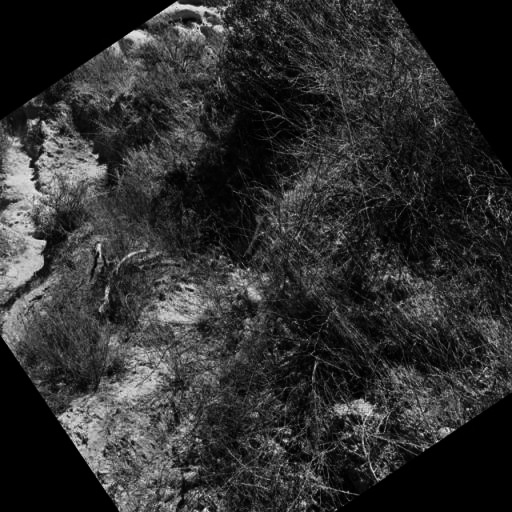mallet: (227, 205, 289, 261)
